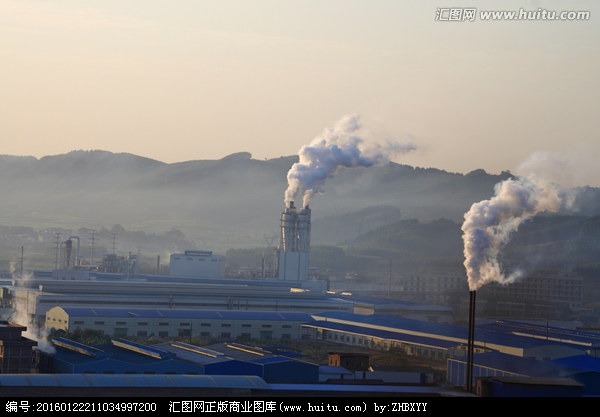dust: (276, 108, 407, 219), (455, 165, 563, 299)
